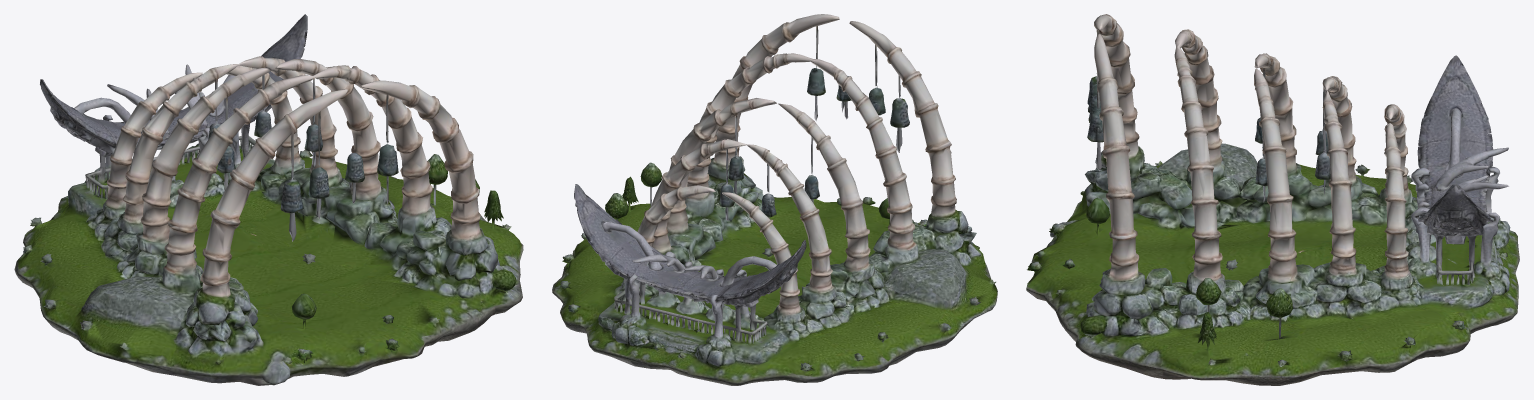
File: 10-stage-three-gate.glb
The picture shows the model from 3 angles, left to right: view 1: azimuth 30°, elevation 25°; view 2: azimuth 150°, elevation 25°; view 3: azimuth 270°, elevation 25°; orthographic projection. The views are drawn at different scales.
Visible parts, largest first — view 1: tripo_node_51a714bd-8be3-476f-a15c-3b6dd76e10e6; view 2: tripo_node_51a714bd-8be3-476f-a15c-3b6dd76e10e6; view 3: tripo_node_51a714bd-8be3-476f-a15c-3b6dd76e10e6.
Boxes of the visible parts, x1=… form: tripo_node_51a714bd-8be3-476f-a15c-3b6dd76e10e6: x1=14, y1=14, x2=523, y2=385; tripo_node_51a714bd-8be3-476f-a15c-3b6dd76e10e6: x1=552, y1=14, x2=997, y2=385; tripo_node_51a714bd-8be3-476f-a15c-3b6dd76e10e6: x1=1026, y1=14, x2=1519, y2=385.
Bounding box in the file's own units: 3.04 × 2.1 × 3.
Materials: 1 (1 with a texture image).
